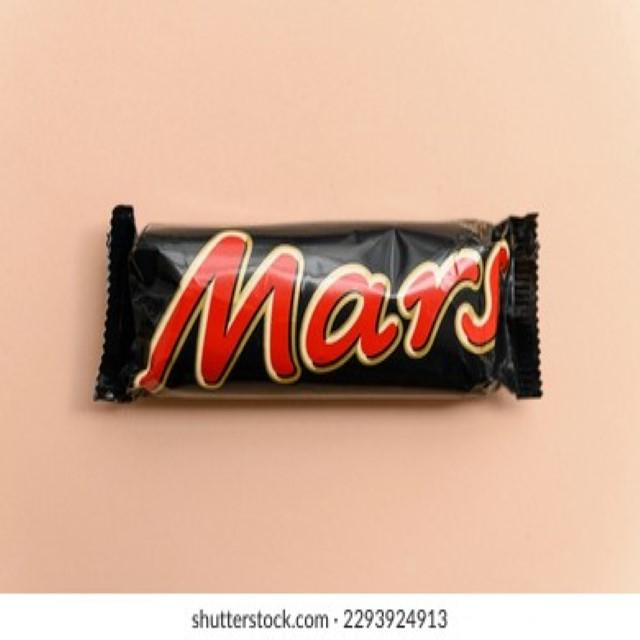mars_chocolate: (128, 210, 537, 418)
